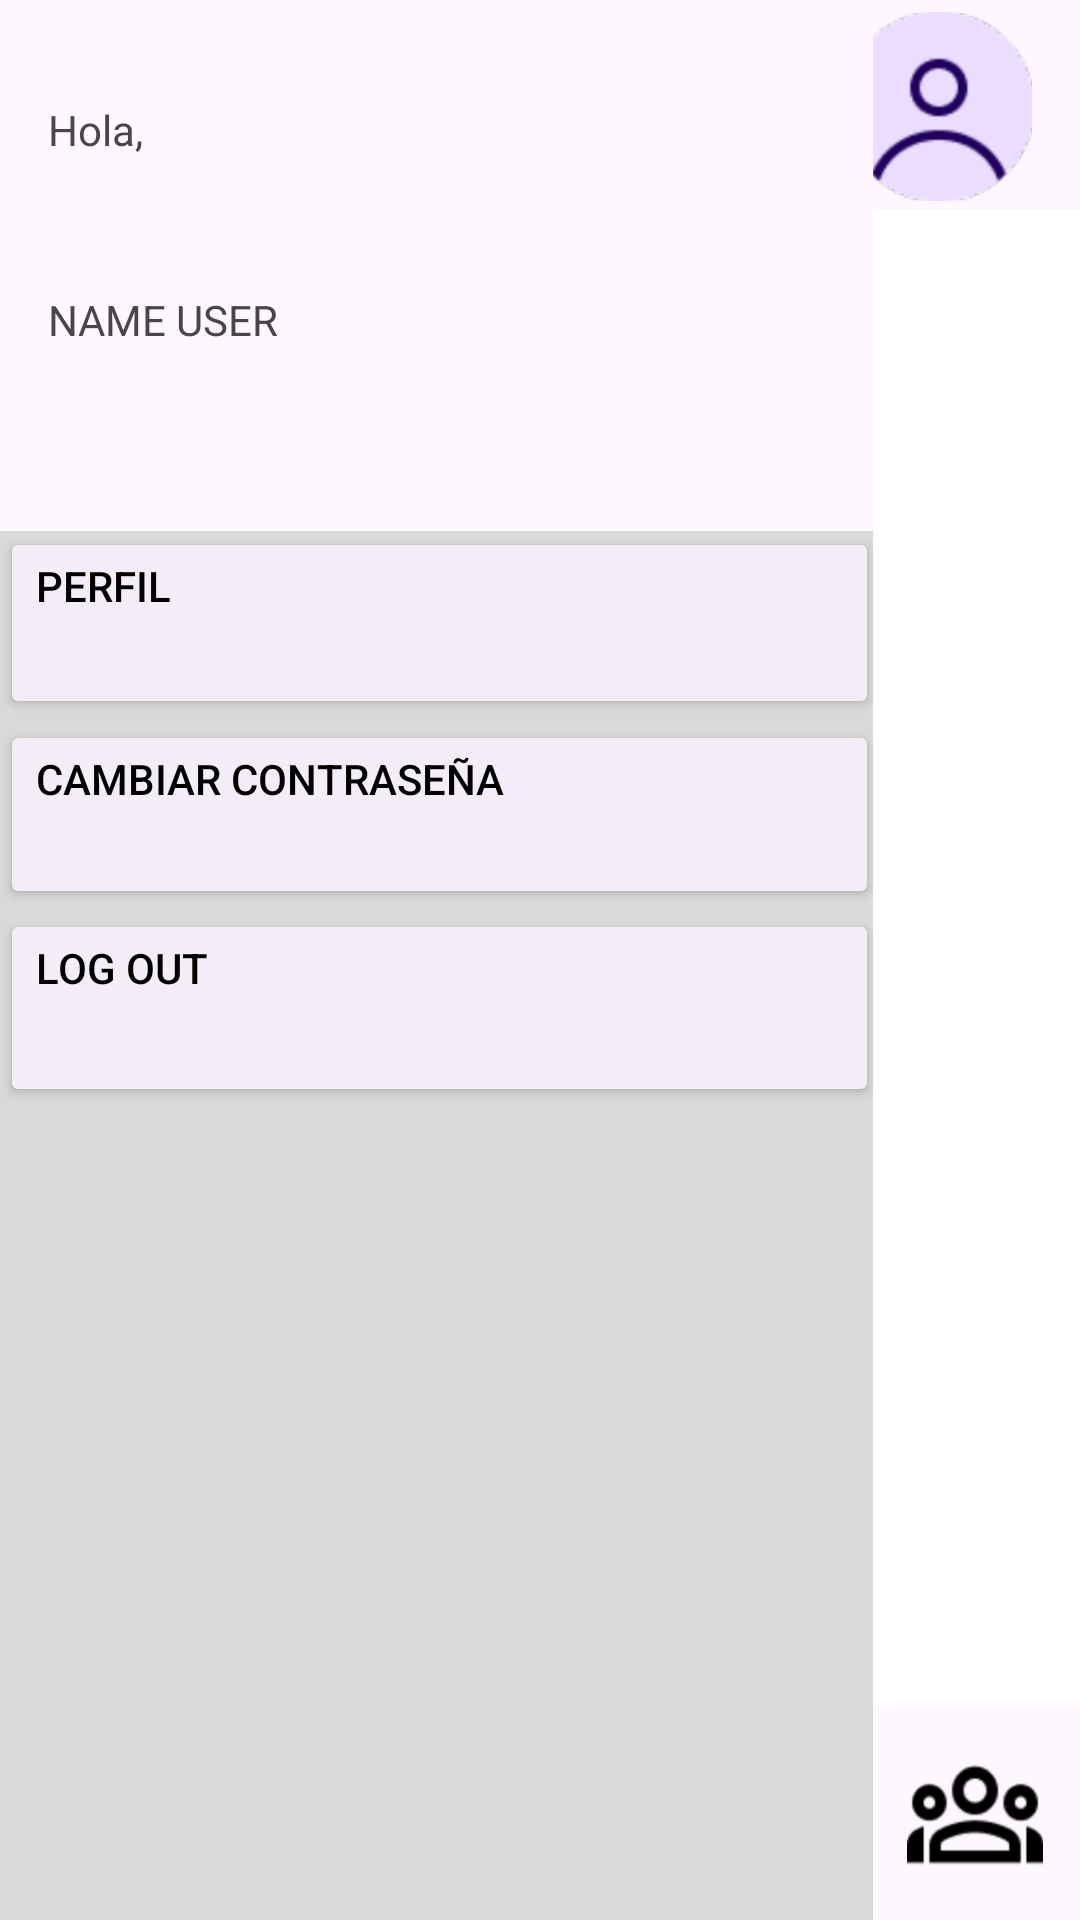

Named icons in this screenshot (1080 × 1920) and their bounding boxes, (x1, y1, x2, y2):
groups: (907, 1765, 1043, 1864)
profile: (873, 12, 1032, 201)
